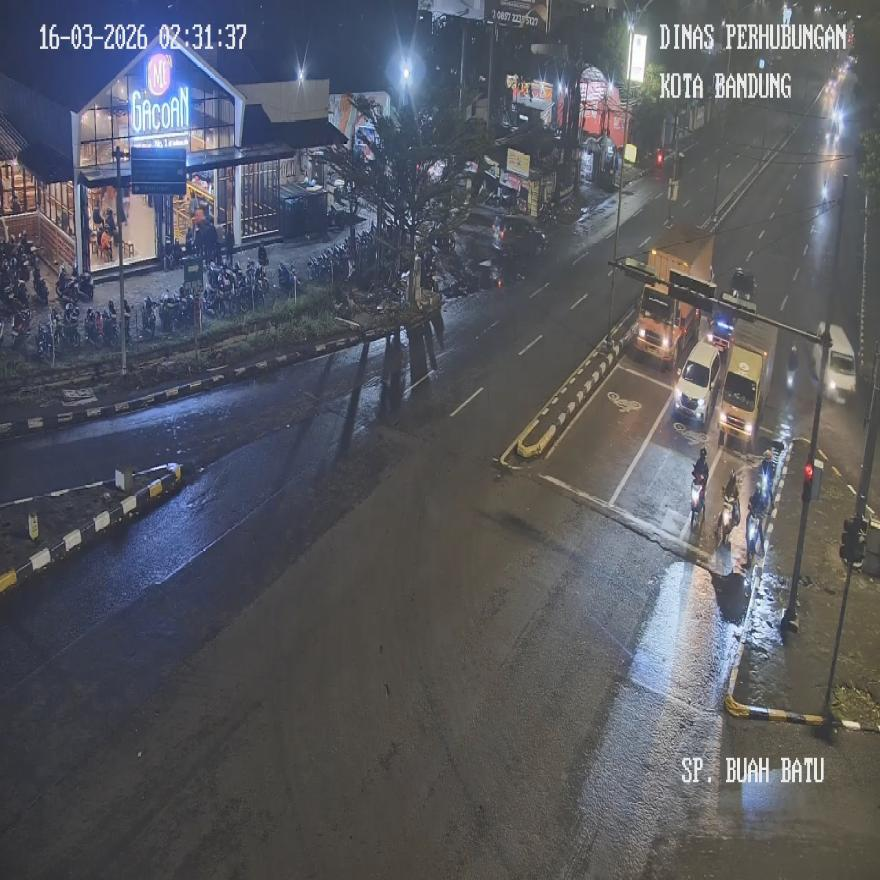Truk: (716, 495, 739, 546), (758, 450, 774, 508), (690, 473, 706, 530), (745, 510, 762, 562)
